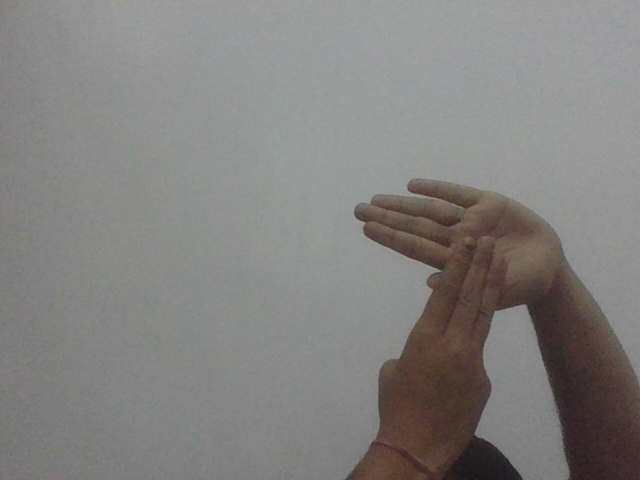M: (347, 173, 550, 373)
